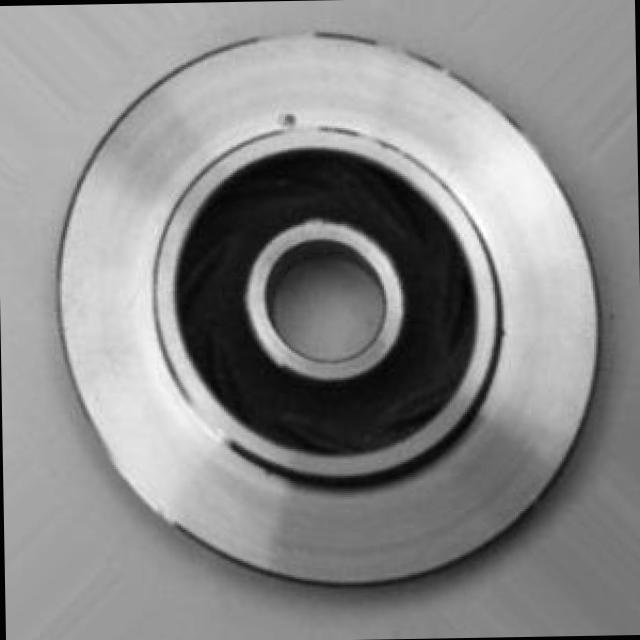Defect: (271, 102, 304, 142)
